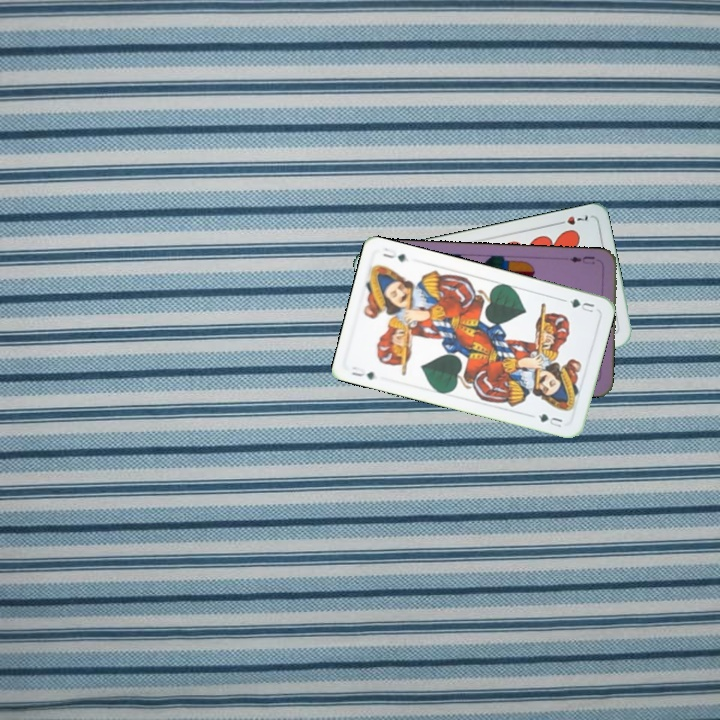EU: (566, 252, 597, 267)
GU: (347, 362, 380, 383), (566, 294, 597, 315)
H7: (552, 211, 591, 228)
